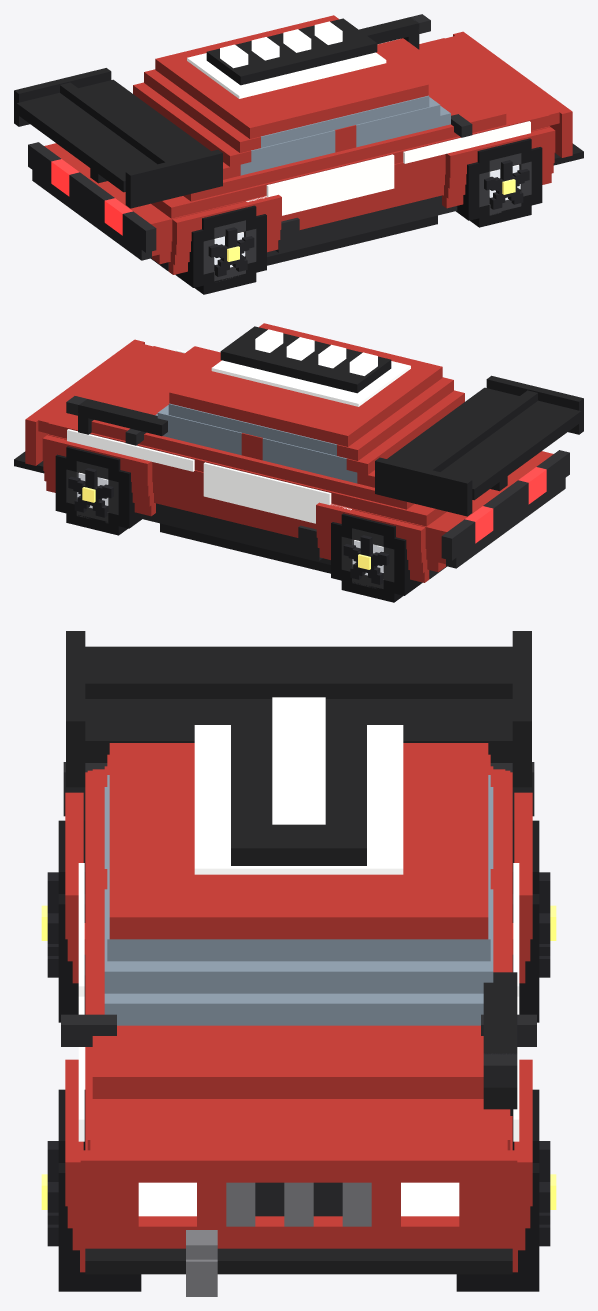
File: rally_v2.glb
3 renders of one model, top to bottom at view 1: azimuth 30°, elevation 25°; view 2: azimuth 150°, elevation 25°; view 3: azimuth 270°, elevation 25°, orthographic. The views are drawn at different scales.
Visible parts, largest first — view 1: car_body, car_spoiler, car_panel, car_lamps, car_fascia, car_wheel_rr, car_wheel_fr, car_rear, car_fender, car_snorkel, car_flap; view 2: car_body, car_spoiler, car_panel, car_lamps, car_wheel_fl, car_wheel_rl, car_rear, car_fascia, car_fender, car_snorkel, car_flap; view 3: car_body, car_fascia, car_spoiler, car_lamps, car_panel, car_fender, car_splitter, car_wheel_fr, car_wheel_fl, car_snorkel, car_wheel_rl, car_wheel_rr (+2 smaller).
Part boxes in pixels (x1=…): car_body: x1=44, y1=15, x2=549, y2=271; car_spoiler: x1=14, y1=68, x2=222, y2=208; car_panel: x1=187, y1=41, x2=530, y2=215; car_lamps: x1=206, y1=18, x2=377, y2=85; car_fascia: x1=423, y1=31, x2=572, y2=157; car_wheel_rr: x1=175, y1=205, x2=266, y2=294; car_wheel_fr: x1=456, y1=138, x2=542, y2=227; car_rear: x1=28, y1=142, x2=156, y2=260; car_fender: x1=168, y1=127, x2=555, y2=274; car_snorkel: x1=359, y1=14, x2=430, y2=49; car_flap: x1=275, y1=217, x2=299, y2=252; car_body: x1=48, y1=323, x2=553, y2=579; car_spoiler: x1=375, y1=375, x2=583, y2=516; car_panel: x1=67, y1=349, x2=410, y2=523; car_lamps: x1=220, y1=326, x2=391, y2=393; car_wheel_fl: x1=55, y1=446, x2=141, y2=535; car_wheel_rl: x1=331, y1=513, x2=422, y2=602; car_rear: x1=441, y1=450, x2=569, y2=568; car_fascia: x1=25, y1=339, x2=174, y2=465; car_fender: x1=42, y1=435, x2=429, y2=582; car_snorkel: x1=66, y1=396, x2=167, y2=436; car_flap: x1=298, y1=525, x2=322, y2=560; car_body: x1=85, y1=743, x2=512, y2=1150; car_fascia: x1=61, y1=1014, x2=536, y2=1296; car_spoiler: x1=66, y1=631, x2=531, y2=787; car_lamps: x1=138, y1=697, x2=459, y2=1216; car_panel: x1=78, y1=725, x2=519, y2=1141; car_fender: x1=65, y1=792, x2=532, y2=1272; car_splitter: x1=85, y1=1248, x2=512, y2=1274; car_wheel_fr: x1=41, y1=1089, x2=141, y2=1291; car_wheel_fl: x1=456, y1=1089, x2=556, y2=1291; car_snorkel: x1=483, y1=972, x2=517, y2=1115; car_wheel_rl: x1=512, y1=820, x2=556, y2=1022; car_wheel_rr: x1=41, y1=820, x2=85, y2=1022.
Size of the model in its own units: 4.43 by 1.62 by 2.12.
